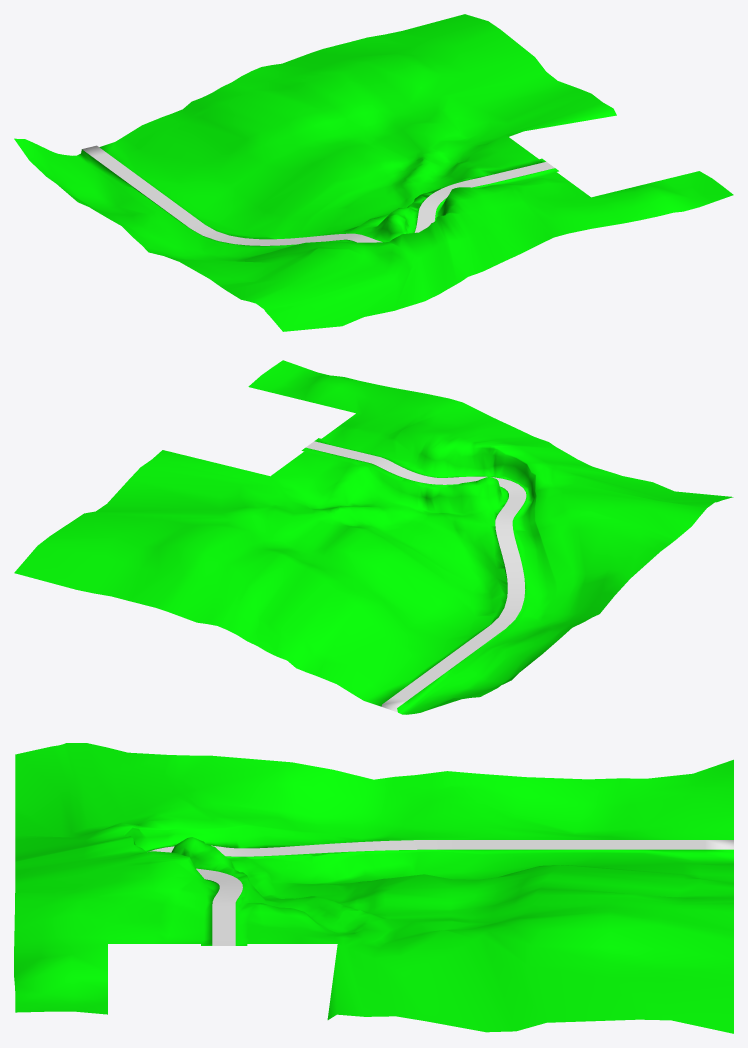
File: Academy Blockout_Terrain.fbx
3 renders of one model, top to bottom at view 1: azimuth 30°, elevation 25°; view 2: azimuth 150°, elevation 25°; view 3: azimuth 270°, elevation 25°, orthographic. The views are drawn at different scales.
Parts seen in each view (by area): view 1: ExteriorTerrain_Full; view 2: ExteriorTerrain_Full; view 3: ExteriorTerrain_Full.
Part boxes in pixels (x1,y1,x2,y2): ExteriorTerrain_Full: (14, 14, 733, 331); ExteriorTerrain_Full: (14, 360, 733, 714); ExteriorTerrain_Full: (14, 743, 733, 1033).
Size of the model in its own units: 15007 by 2547 by 15531.
